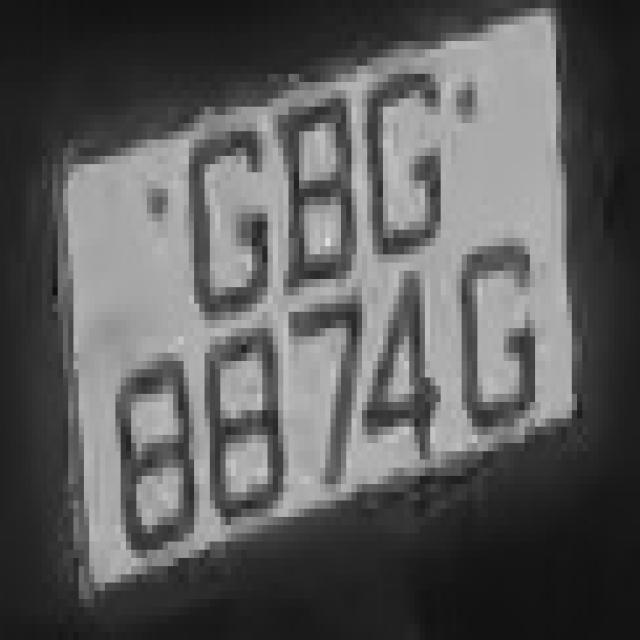4: (336, 230, 440, 459)
7: (262, 262, 362, 508)
8: (184, 320, 304, 525), (100, 344, 199, 590)
B: (252, 66, 362, 312)
G: (158, 115, 284, 336), (451, 222, 546, 451), (352, 49, 451, 263)
